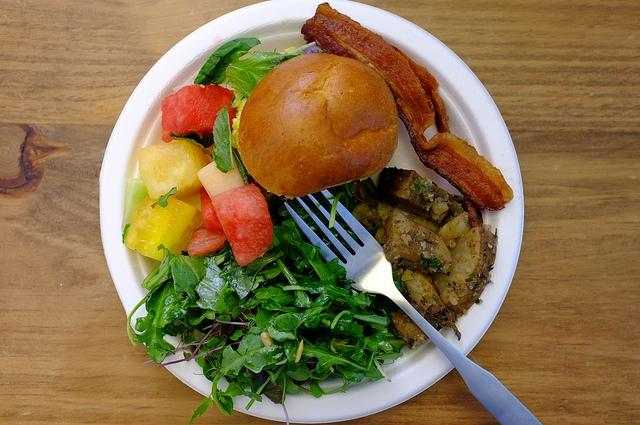lettuce: (265, 300, 344, 364), (226, 51, 306, 100), (145, 278, 191, 328), (334, 328, 394, 364), (212, 107, 235, 173)
pineapple: (124, 196, 204, 262), (138, 140, 210, 200)
watermelon: (211, 182, 273, 266), (160, 84, 237, 143), (188, 225, 228, 256), (200, 187, 224, 235)
